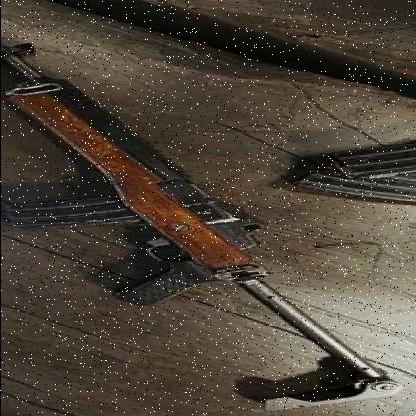rifle: (2, 39, 416, 409)
